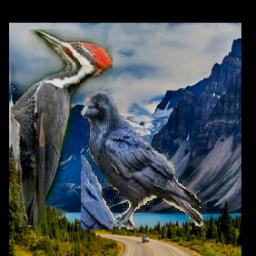Crow: (82, 88, 208, 230)
Woodpecker: (11, 30, 113, 228)
